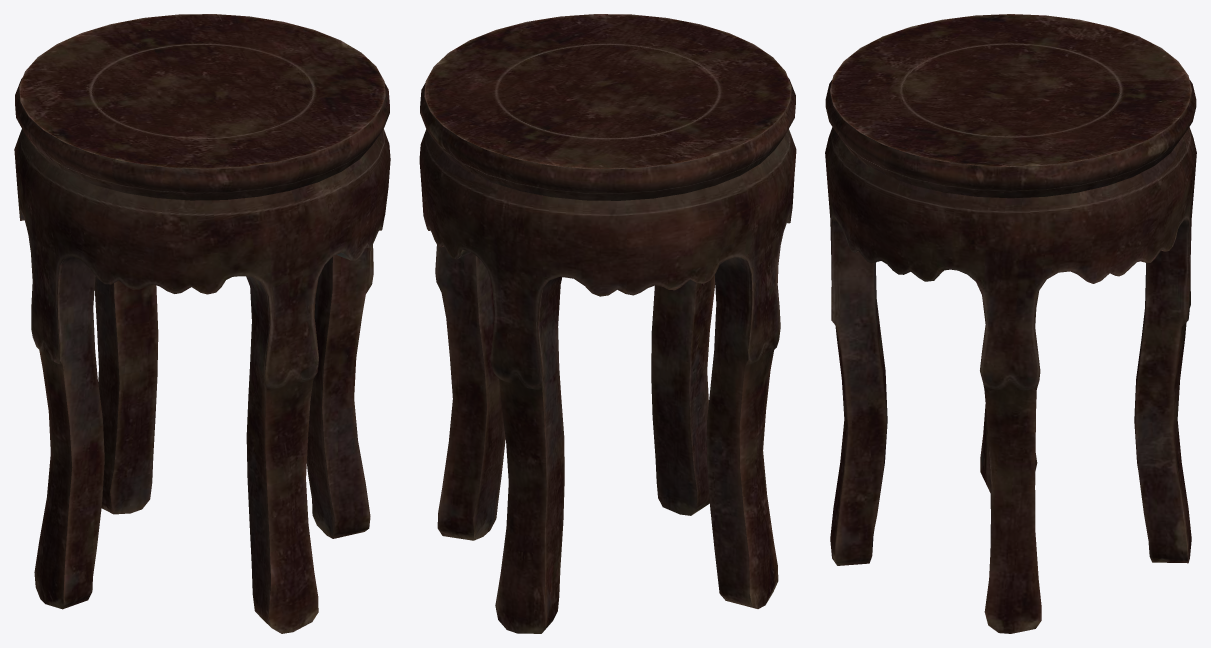
The model's file is stool.glb.
3 renders of one model, left to right at view 1: azimuth 30°, elevation 25°; view 2: azimuth 150°, elevation 25°; view 3: azimuth 270°, elevation 25°, orthographic.
Visible parts, largest first — view 1: WoodenTable_02; view 2: WoodenTable_02; view 3: WoodenTable_02.
Boxes of the visible parts, <box> form: WoodenTable_02: <box>14,14,390,633</box>; WoodenTable_02: <box>419,14,796,633</box>; WoodenTable_02: <box>825,14,1196,633</box>.
Bounding box in the file's own units: 0.3007 × 0.4177 × 0.3007.
1 material, 1 textured.
